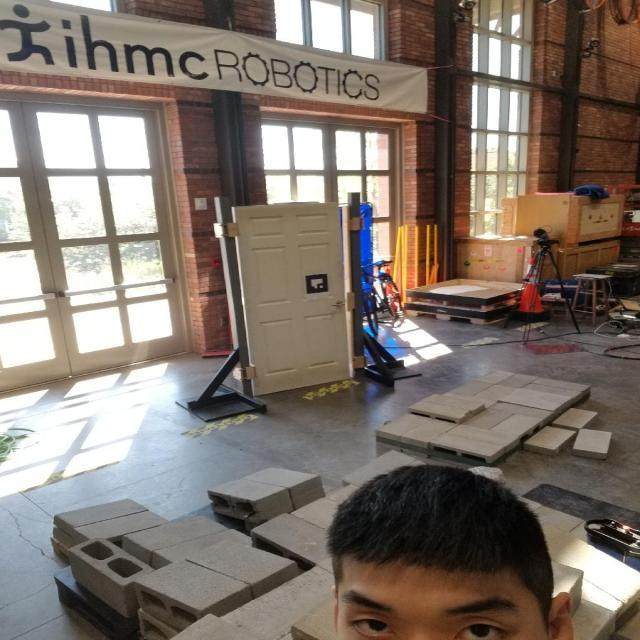door: (227, 200, 355, 399), (330, 300, 344, 312)
